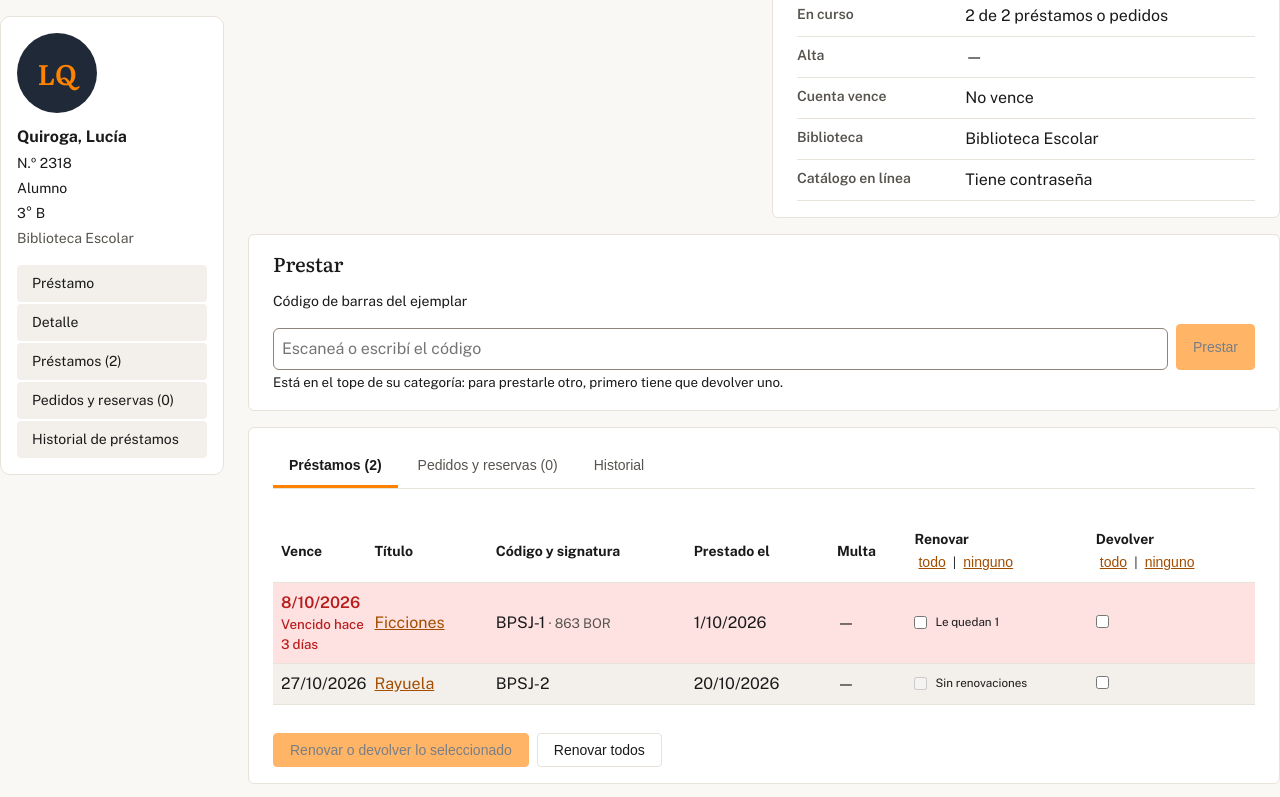
Test: FichaSocio › renueva y devuelve lo tildado, y avisa si lo devuelto tenía reserva
(page scrolled)
expect the table is shown: met, box [273,521,1255,705]
Click the checkbox named "Renovar Ficciones": (921, 623) [914,616,928,630]
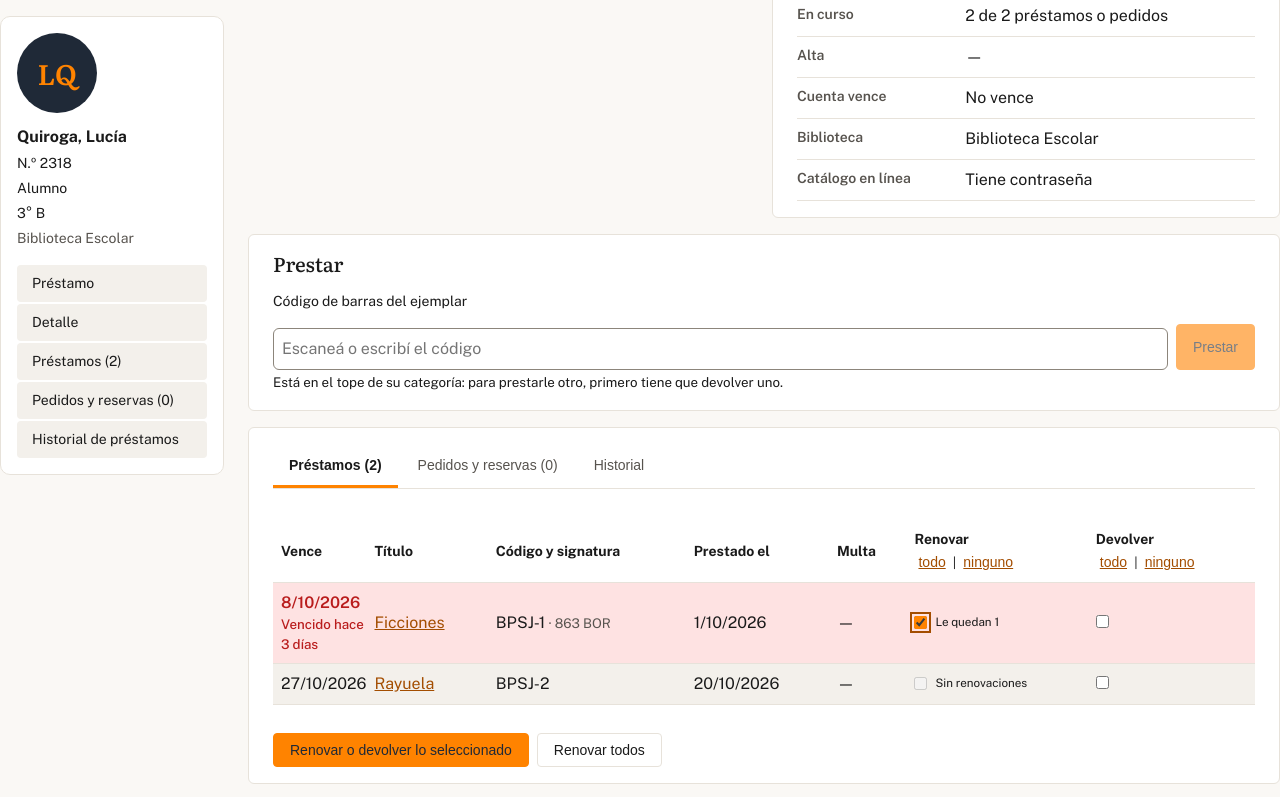
Click the checkbox named "Devolver Rayuela": (1102, 682) [1096,676,1109,689]
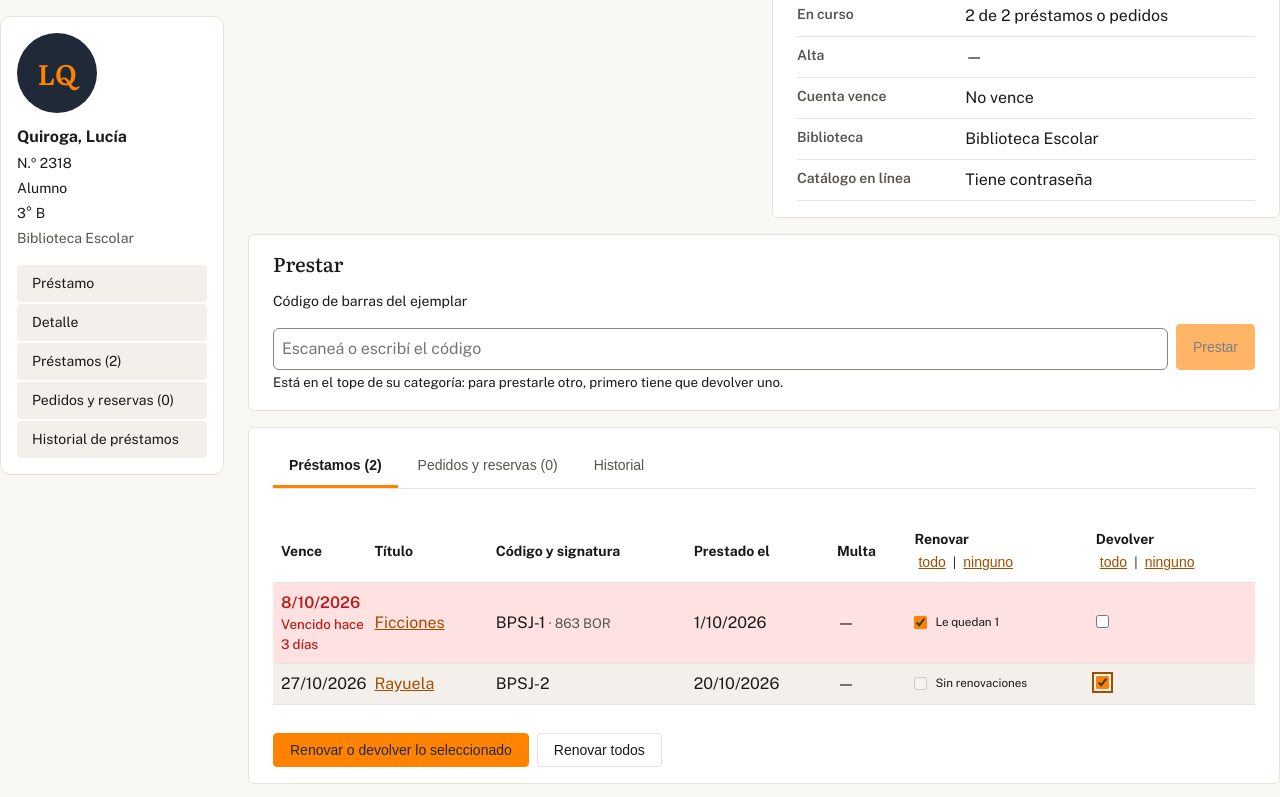
Click the button "Renovar o devolver lo seleccionado": (401, 750) [273,733,529,767]
(page scrolled)
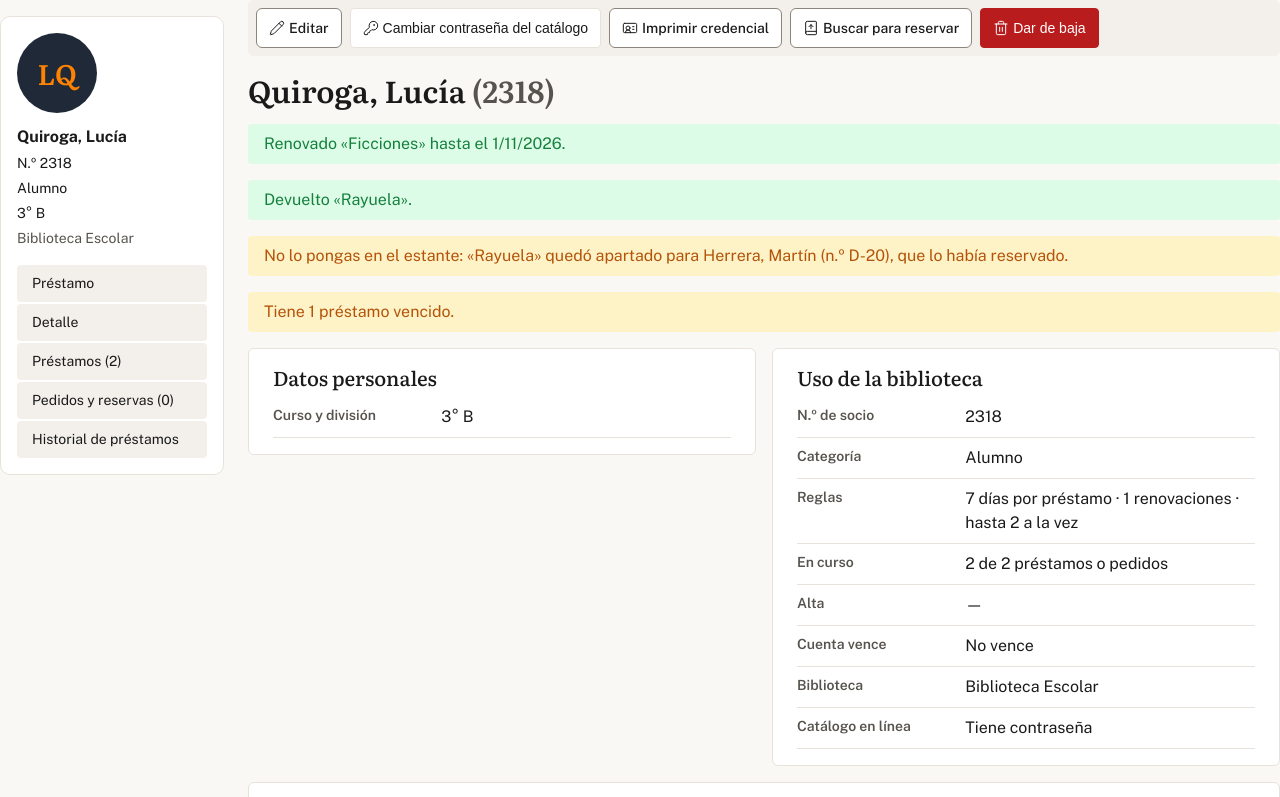
expect the text "Devuelto «Rayuela»." is shown: met, box [248,180,1279,220]
expect the text "No lo pongas en el estante: «Rayuela» quedó apartado para Herrera, Martín" is shown: met, box [264,246,1068,265]
